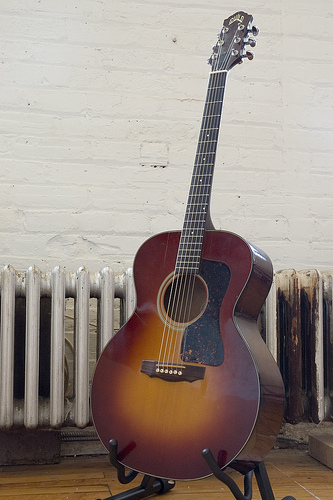guitar: (86, 13, 289, 484)
